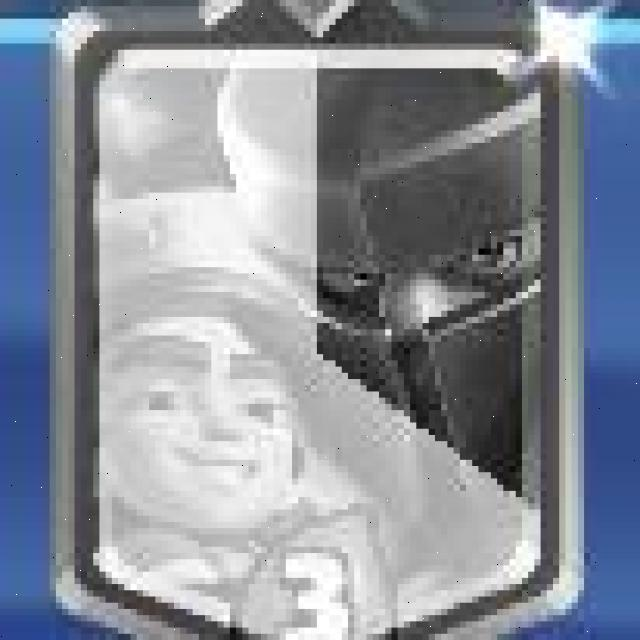Little_Prince: (52, 7, 581, 640)
